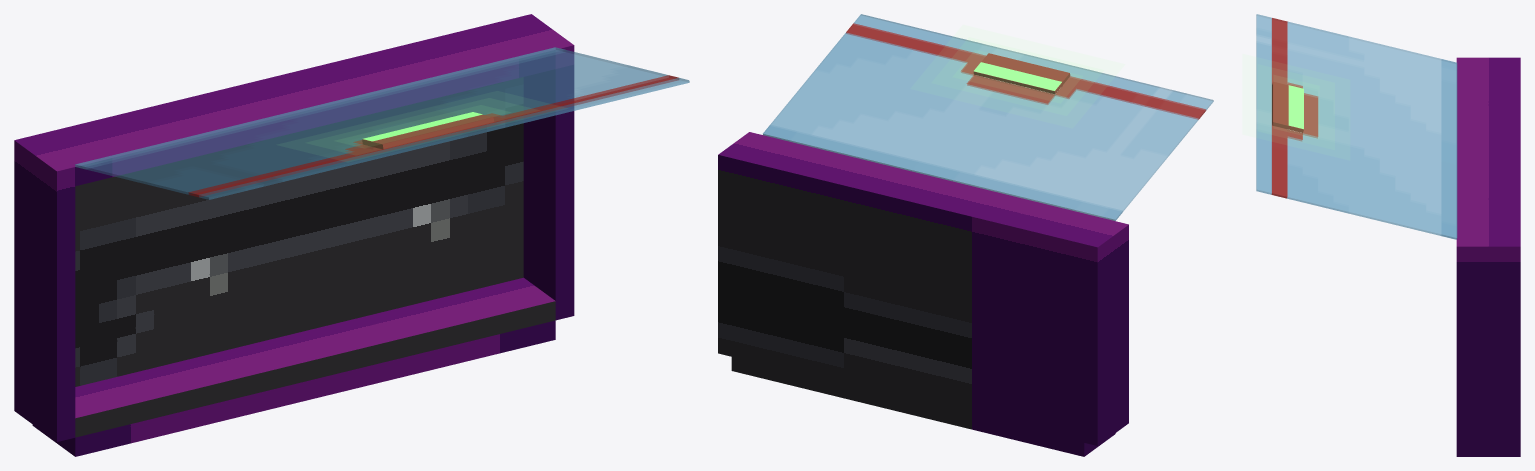
Rendered from mech_removal_cabinet_open_empty.glb.
3 views of the same model, side by side, from view 1: azimuth 30°, elevation 25°; view 2: azimuth 150°, elevation 25°; view 3: azimuth 270°, elevation 25° (orthographic). The views are drawn at different scales.
Parts seen in each view (by area): view 1: Continuous_Cabinet_Shell, Closed_Thickness_Door_Glass, Lock_Overlay, Door_Handle; view 2: Continuous_Cabinet_Shell, Closed_Thickness_Door_Glass, Lock_Overlay, Door_Handle; view 3: Closed_Thickness_Door_Glass, Continuous_Cabinet_Shell, Lock_Overlay, Door_Handle.
Boxes of the visible parts, x1,y1,x2,y2 form: Continuous_Cabinet_Shell: (14,14,574,456); Closed_Thickness_Door_Glass: (75,47,689,199); Lock_Overlay: (308,98,538,154); Door_Handle: (362,114,494,149); Continuous_Cabinet_Shell: (718,132,1128,456); Closed_Thickness_Door_Glass: (763,14,1213,220); Lock_Overlay: (932,38,1103,115); Door_Handle: (973,53,1070,94); Closed_Thickness_Door_Glass: (1256,14,1457,239); Continuous_Cabinet_Shell: (1456,57,1520,456); Lock_Overlay: (1258,65,1334,149); Door_Handle: (1272,81,1303,132).
Bounding box in the file's own units: 0.7875 × 0.5347 × 0.4899.
Materials: 4 (4 with a texture image).
